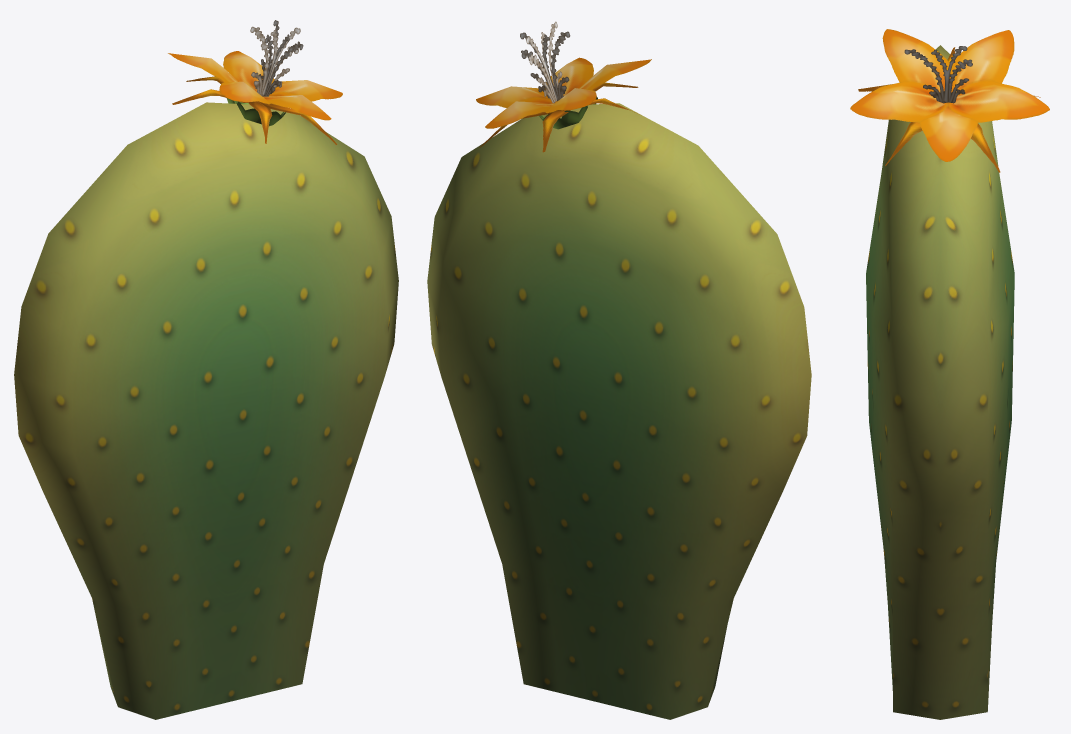
The model's file is Ctn_flatCactus_01_v01_flowers.FBX.
The picture shows the model from 3 angles, left to right: view 1: azimuth 30°, elevation 25°; view 2: azimuth 150°, elevation 25°; view 3: azimuth 270°, elevation 25°; orthographic projection. The views are drawn at different scales.
Parts seen in each view (by area): view 1: Ctn_flatCactus_01_v01_flowers; view 2: Ctn_flatCactus_01_v01_flowers; view 3: Ctn_flatCactus_01_v01_flowers.
Part boxes in pixels (x1,y1,x2,y2): Ctn_flatCactus_01_v01_flowers: (14, 20, 398, 719); Ctn_flatCactus_01_v01_flowers: (427, 21, 811, 719); Ctn_flatCactus_01_v01_flowers: (850, 29, 1049, 719).
Size of the model in its own units: 39.64 by 64.15 by 18.32.
